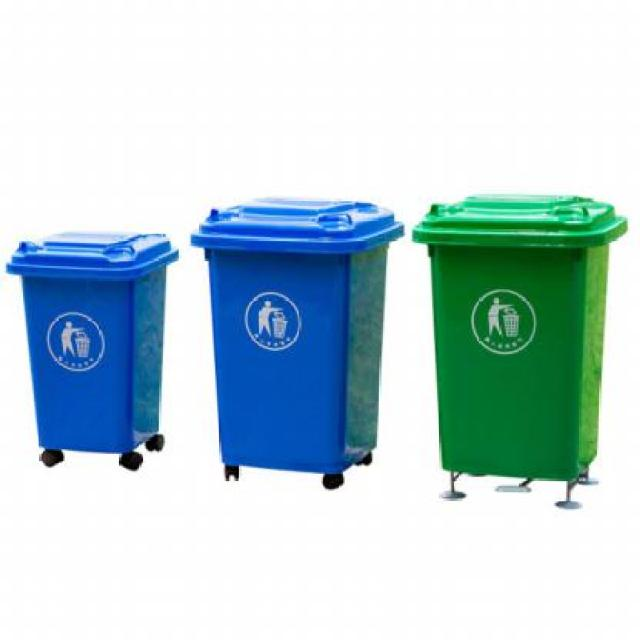garbage container: (408, 186, 640, 528), (184, 188, 407, 508), (1, 218, 187, 496)
